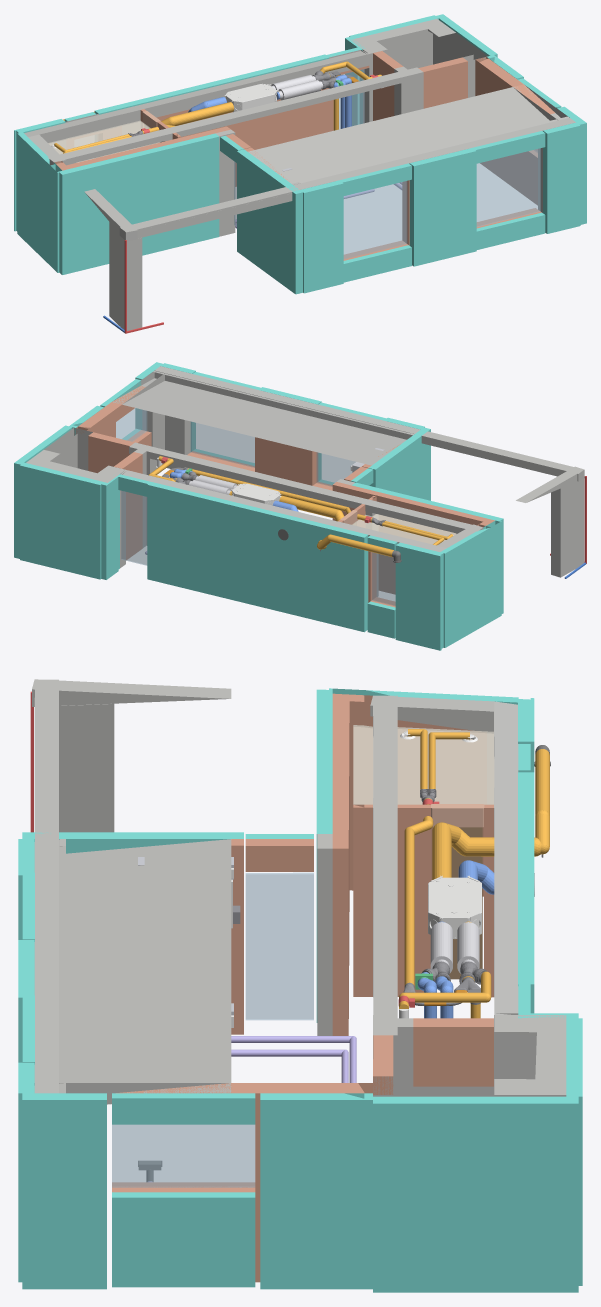
File: HouseEM_AR_AT_open.glb
The picture shows the model from 3 angles, top to bottom: view 1: azimuth 30°, elevation 25°; view 2: azimuth 150°, elevation 25°; view 3: azimuth 270°, elevation 25°; orthographic projection. The views are drawn at different scales.
Visible parts, largest first — view 1: RF-SLAB, AT-ET07, AT-ET10, AT-ET12, AT-ET13, AT-ET06, AT-EO04, AT-EO05, AT-ET09, AT-COL07, AT-BW05, AT-BEAM08 (+31 smaller); view 2: AT-ET11, RF-SLAB, AT-ET03, AT-ET06, AT-ET05, AT-BEAM02, AT-COL03, AT-BEAM08, AT-ET12, AT-BW08, AT-BW01, AT-EO04 (+31 smaller); view 3: RF-SLAB, AT-ET02, AT-ET01, AT-ET08, AT-EO03-SILL-ET, AT-EO06, AT-EO03, AT-CL01, AT-COL03, AT-BEAM08, AT-INTW01, AT-BW09 (+47 smaller).
Boxes of the visible parts, x1,y1,x2,y2 form: RF-SLAB: [24, 50, 568, 239]; AT-ET07: [57, 133, 219, 274]; AT-ET10: [409, 148, 476, 266]; AT-ET12: [237, 149, 302, 294]; AT-ET13: [300, 181, 343, 293]; AT-ET06: [17, 132, 61, 271]; AT-EO04: [476, 148, 540, 226]; AT-EO05: [343, 181, 407, 259]; AT-ET09: [543, 122, 580, 233]; AT-COL07: [363, 31, 487, 123]; AT-BW05: [156, 88, 333, 186]; AT-BEAM08: [170, 67, 422, 136]; AT-ET11: [147, 482, 368, 632]; RF-SLAB: [113, 371, 565, 551]; AT-ET03: [20, 462, 103, 579]; AT-ET06: [440, 520, 500, 647]; AT-ET05: [395, 542, 445, 650]; AT-BEAM02: [154, 366, 418, 439]; AT-COL03: [551, 478, 584, 577]; AT-BEAM08: [129, 442, 372, 512]; AT-ET12: [369, 427, 430, 500]; AT-BW08: [347, 485, 487, 594]; AT-BW01: [255, 437, 317, 497]; AT-EO04: [190, 421, 254, 467]; RF-SLAB: [34, 691, 518, 1104]; AT-ET02: [373, 1096, 578, 1292]; AT-ET01: [260, 1093, 372, 1289]; AT-ET08: [22, 1093, 106, 1289]; AT-EO03-SILL-ET: [112, 1192, 255, 1287]; AT-EO06: [245, 872, 313, 1020]; AT-EO03: [112, 1124, 255, 1187]; AT-CL01: [353, 725, 494, 804]; AT-COL03: [59, 703, 114, 832]; AT-BEAM08: [373, 798, 397, 1048]; AT-INTW01: [413, 1018, 493, 1086]; AT-BW09: [397, 720, 486, 896].
Size of the model in its own units: 12.49 by 2.59 by 7.
